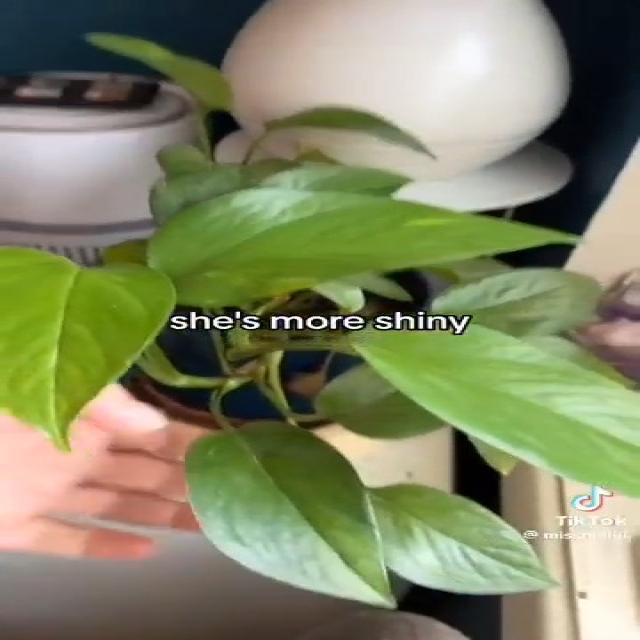roslina_zdrowa: (0, 33, 640, 606)
